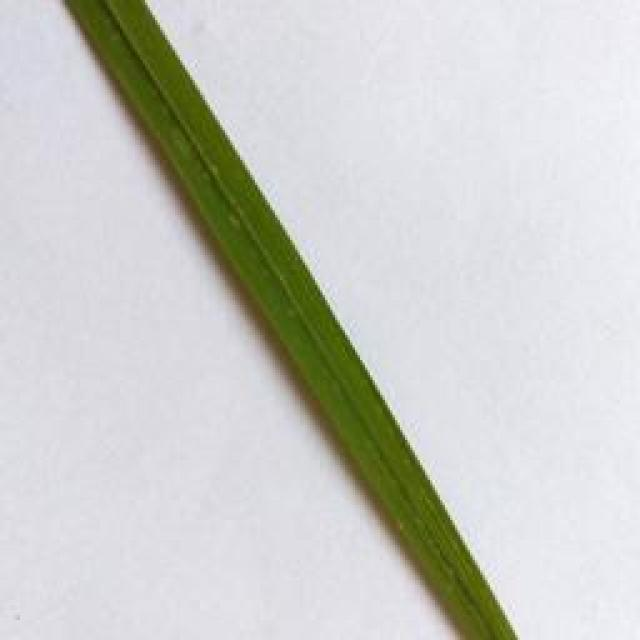Healthy-Plant: (62, 0, 522, 640)
